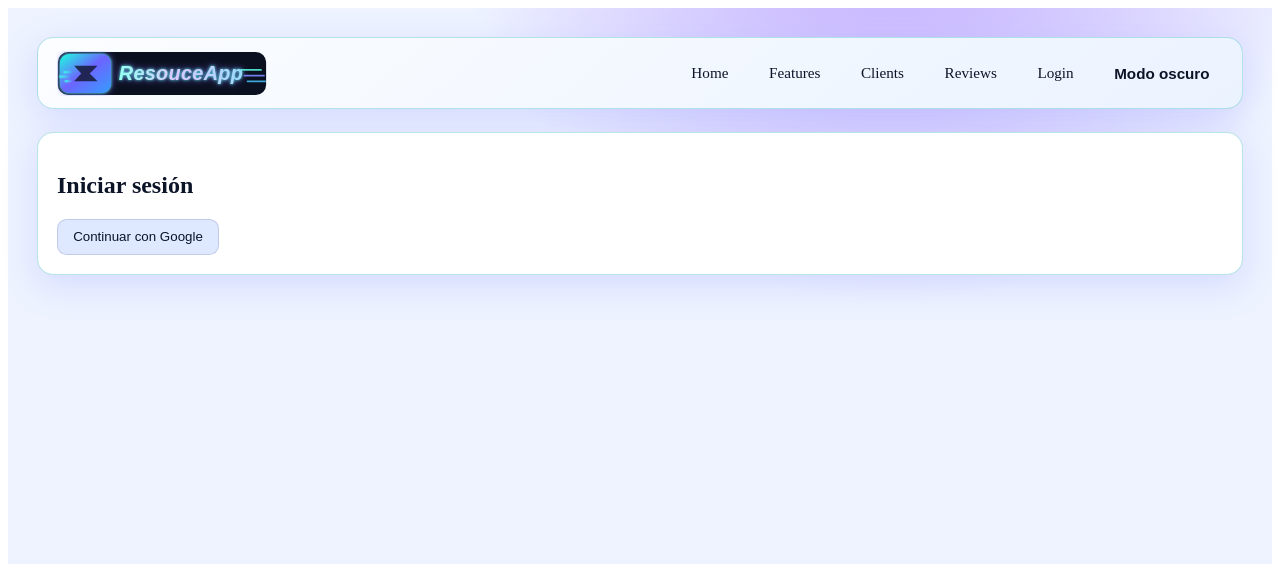
Test case: App Home/Login/Projects flow › navigates to home sections from login page links
Click the link "Features".
click(795, 73)  # box [769, 64, 820, 81]
(page scrolled)
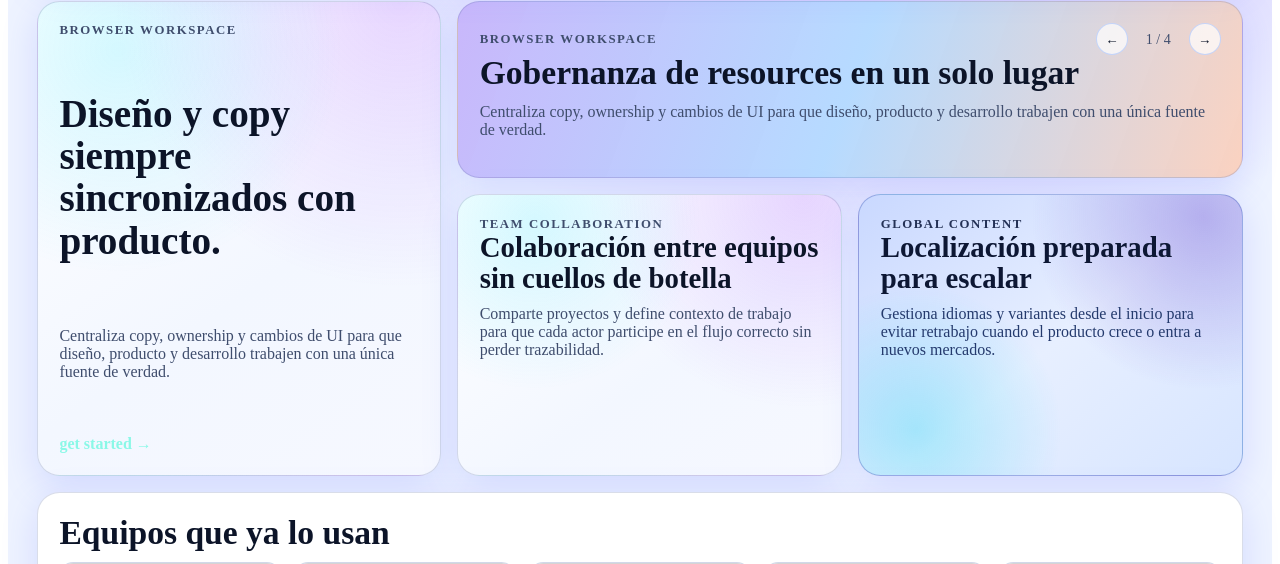
Now the heading "Diseño y copy siempre sincronizados con producto." is shown, box [59, 92, 356, 262]
